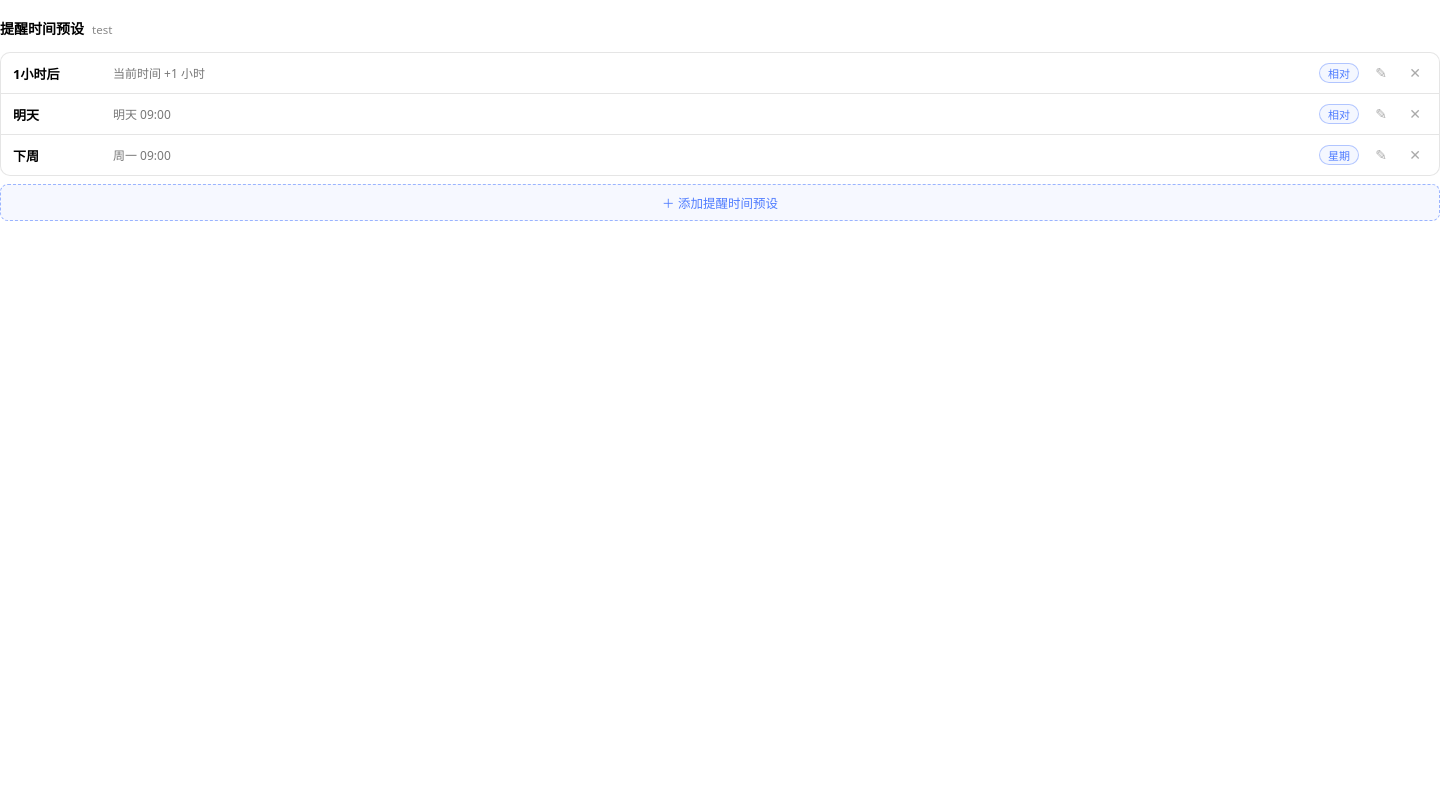
Test case: TodoPresetsManager 添加/编辑 › 编辑预设：模态预填并可改名称保存
Click the button with class "icon-btn" in the row of "1小时后" at (1381, 73), box top-left (1369, 61), bottom-right (1393, 85)
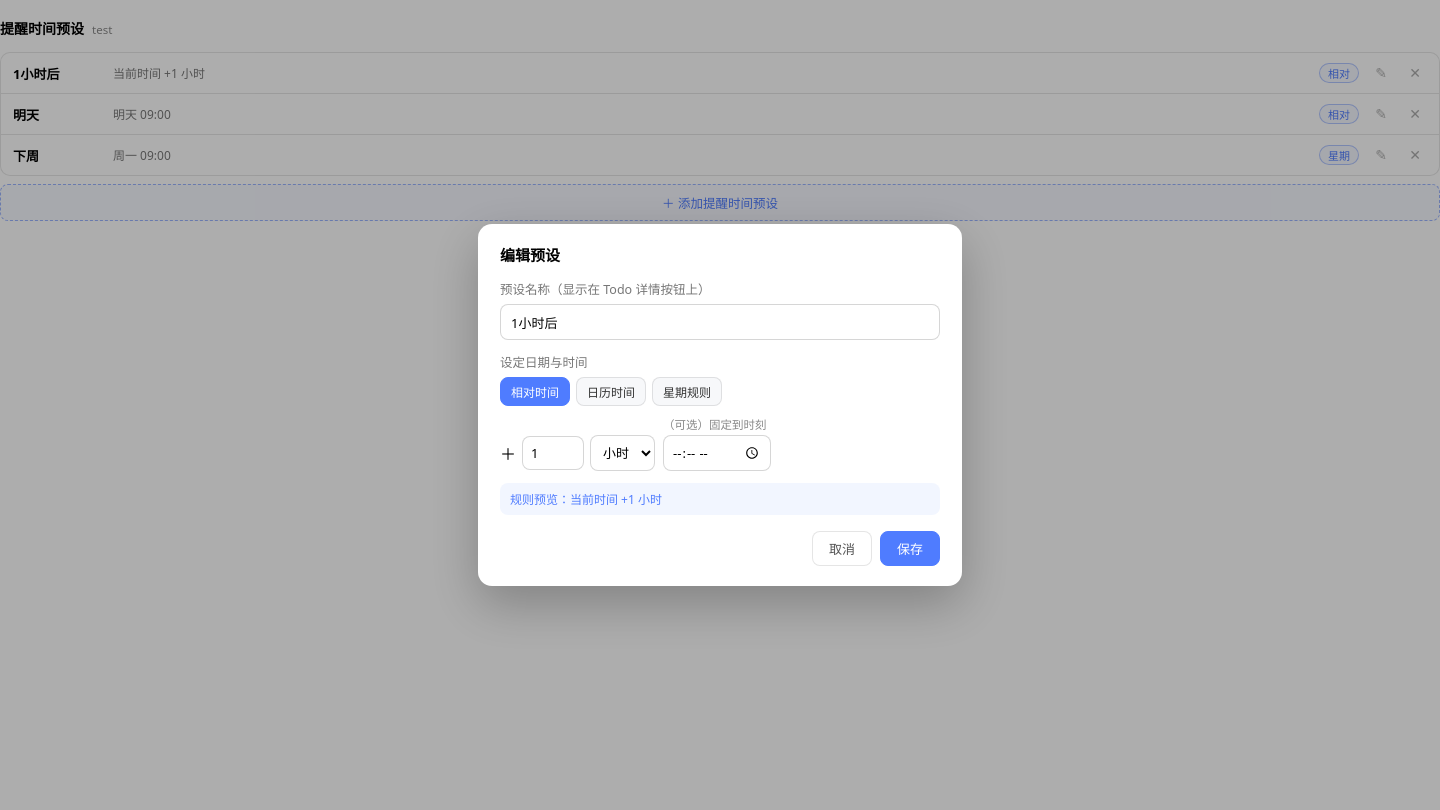
Now the field holds "1小时后"
Replace the text in the field with "改后名称" at (720, 322), box top-left (500, 304), bottom-right (940, 340)
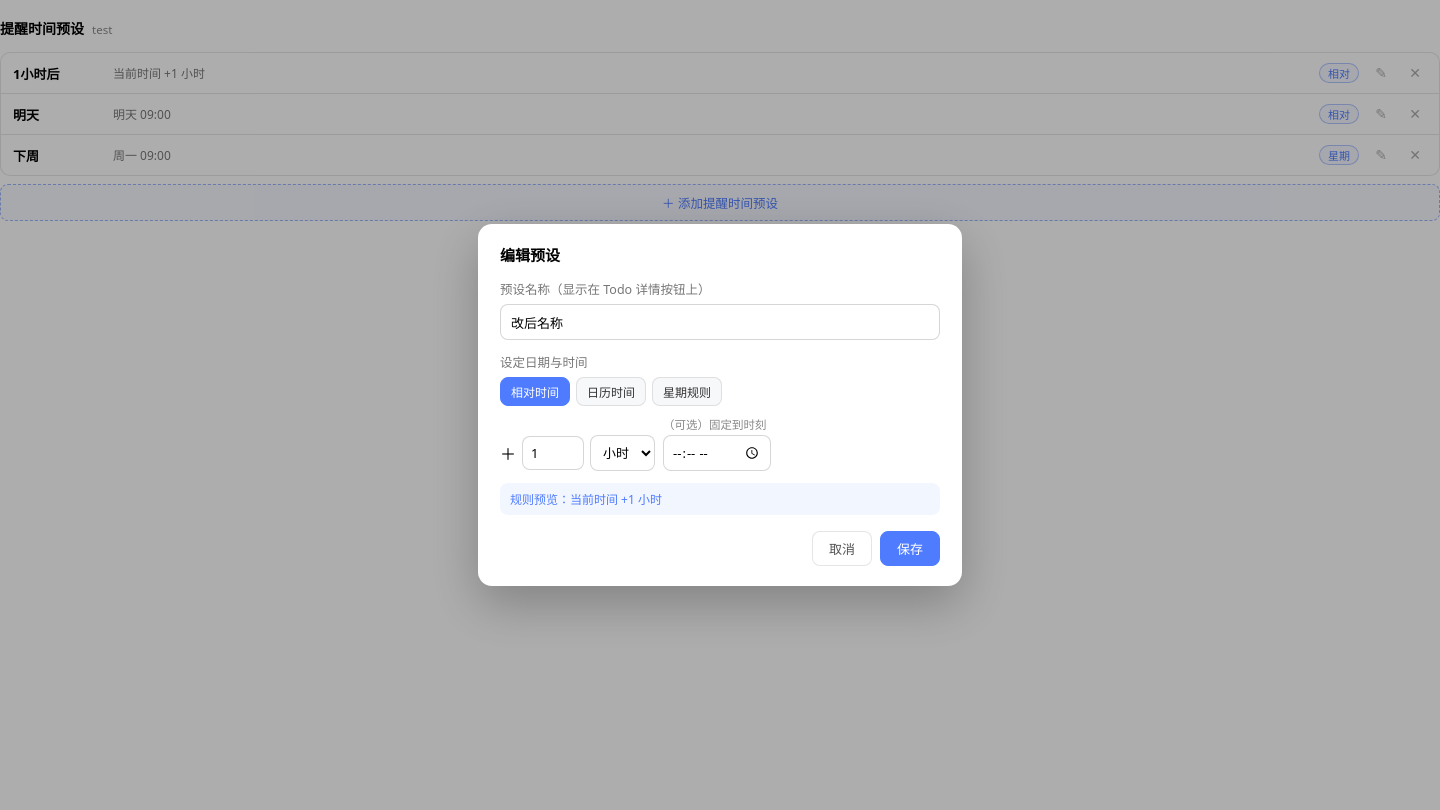
Click the button with class "btn-save" at (910, 548), box top-left (880, 531), bottom-right (940, 566)
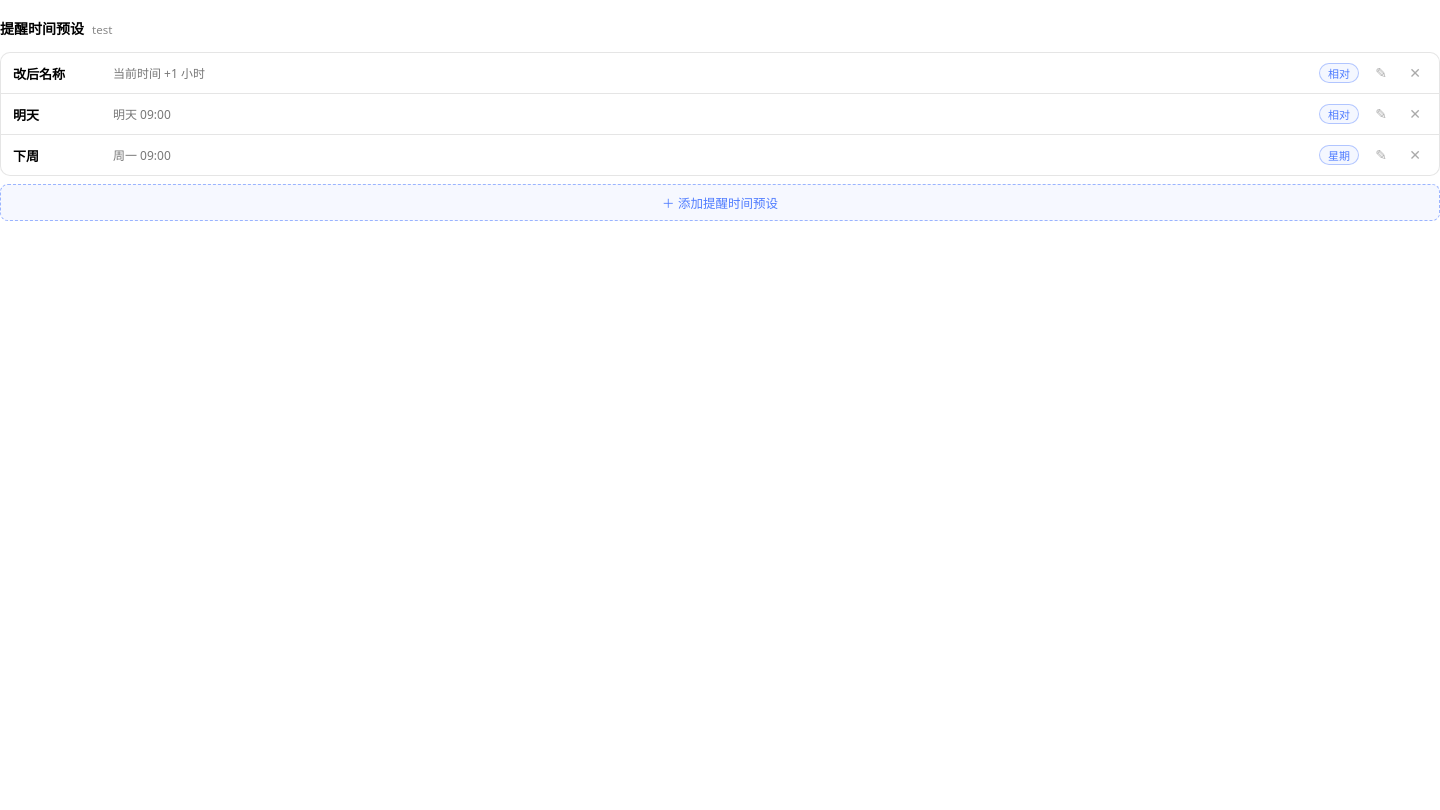
Now the text "改后名称" is shown, box top-left (13, 64), bottom-right (65, 82)
